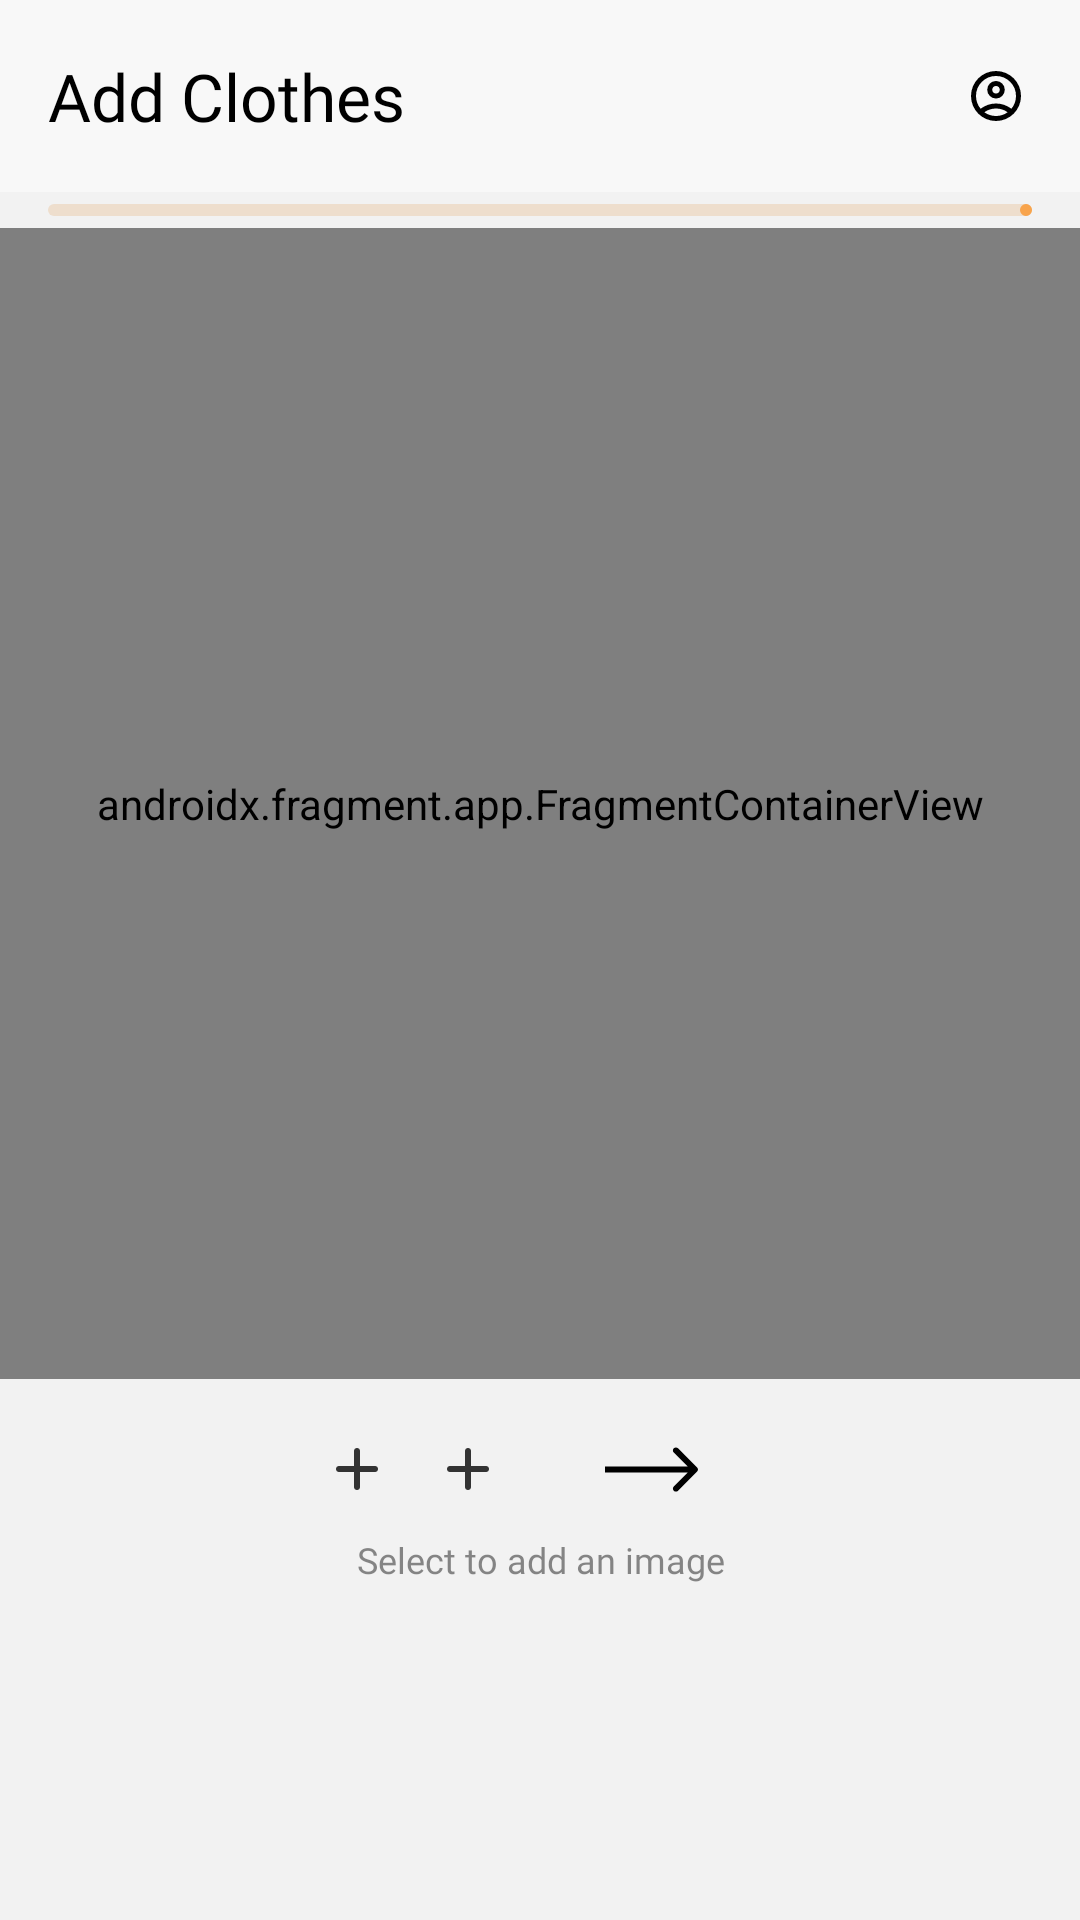

Icon click points for this 1080w x 1920h phone screenshot, format point (x, y):
Next: point (651, 1469)
